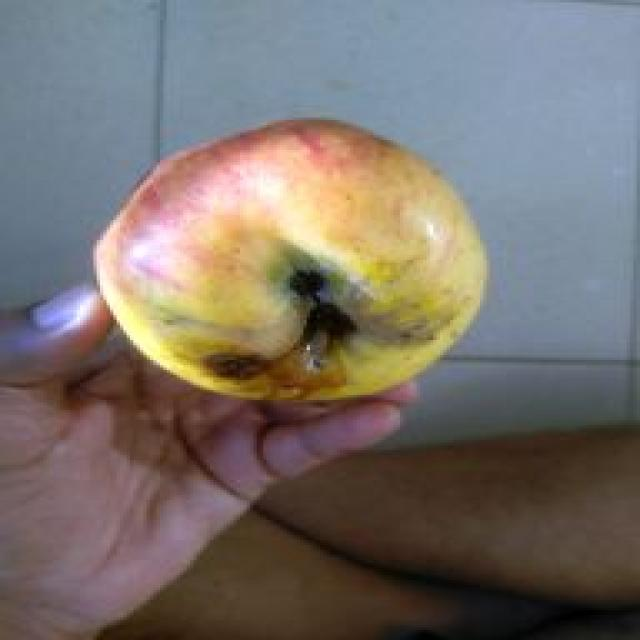Bad_Apple: (95, 120, 487, 399)
